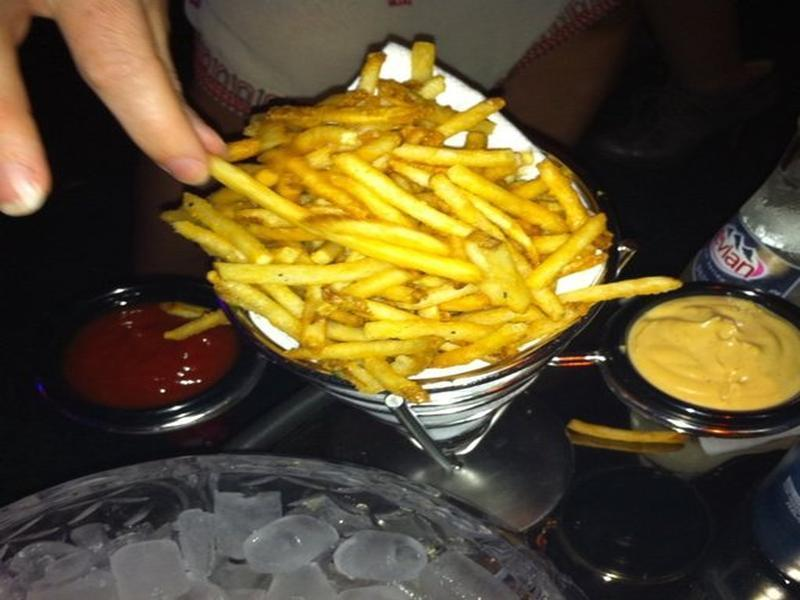french_fries: (168, 45, 638, 438)
